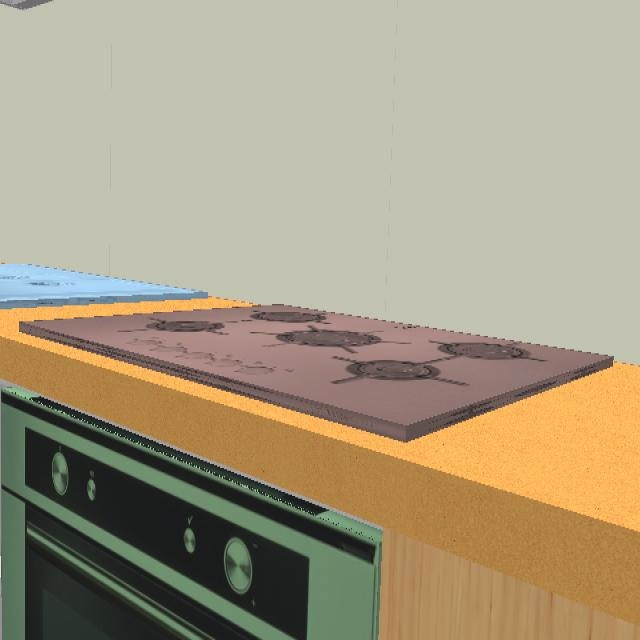countertop: (0, 301, 640, 640)
oven: (0, 388, 386, 640)
sink: (0, 264, 188, 309)
stove: (0, 297, 616, 444)
